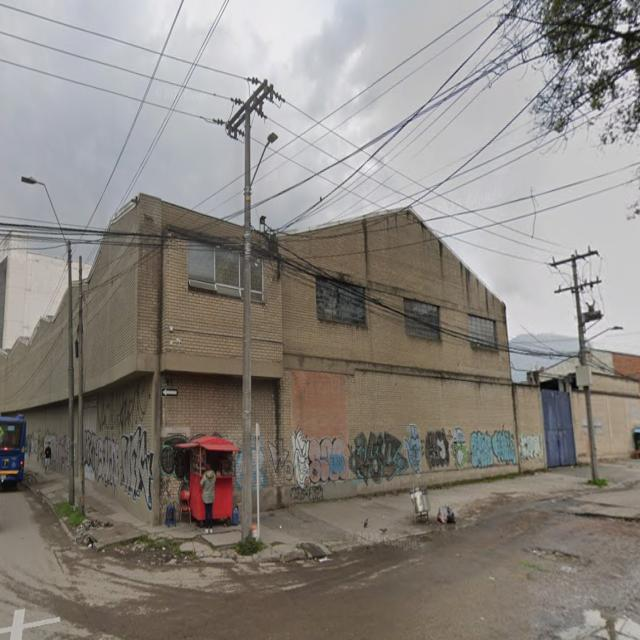fachada: (235, 210, 545, 508), (0, 234, 67, 350), (587, 349, 639, 459)
poste: (242, 109, 252, 539), (66, 240, 75, 506), (78, 257, 85, 514), (572, 257, 587, 365), (256, 423, 260, 538)
